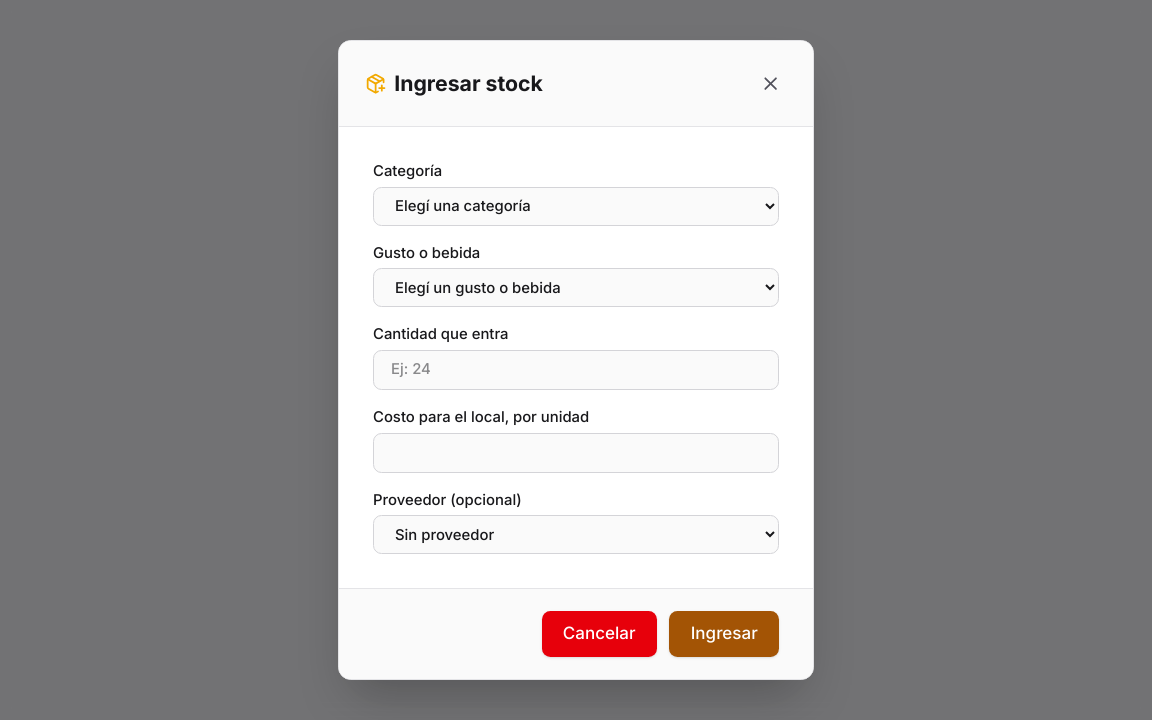
Scenario: Ingresar stock: Jamón extra para pizza (US-47 CA-2) › un precio vacío o en 0 marca el error y no se manda
This screenshot has width=1152, height=720.
Select "Jamón extra para pizza" in the dropdown labelled "Categoría" at (576, 206), box [373,187,779,226]
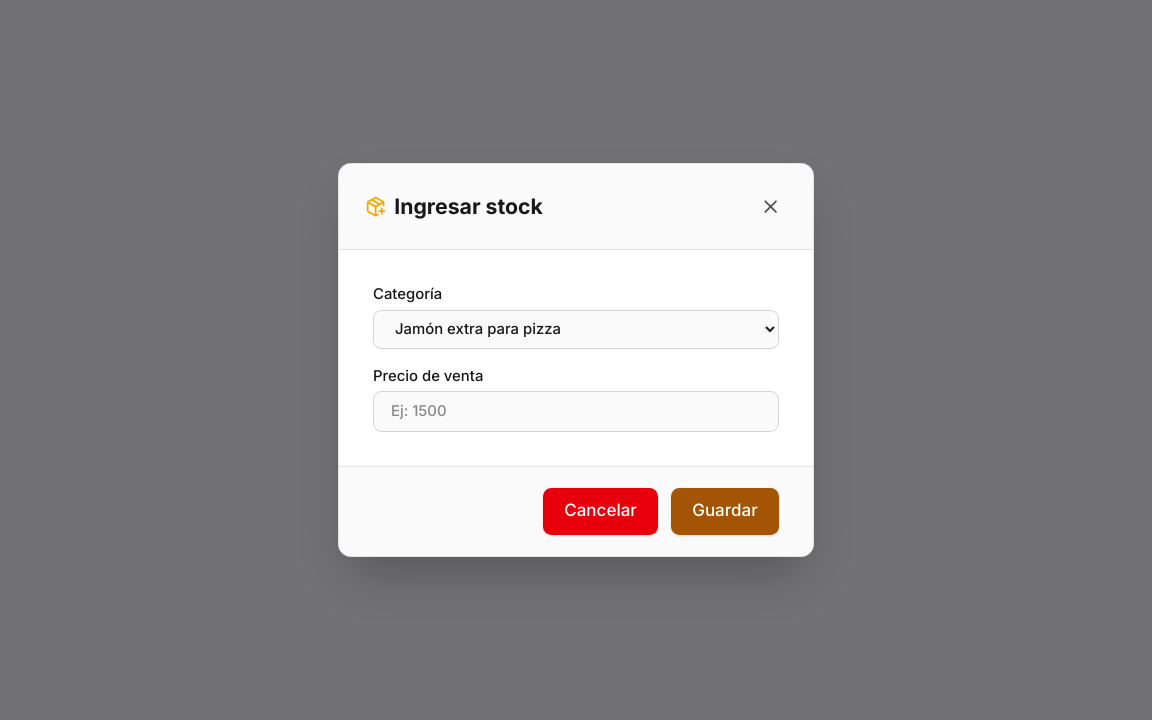
Click the button "Guardar" at (725, 511), box [671,488,779,535]
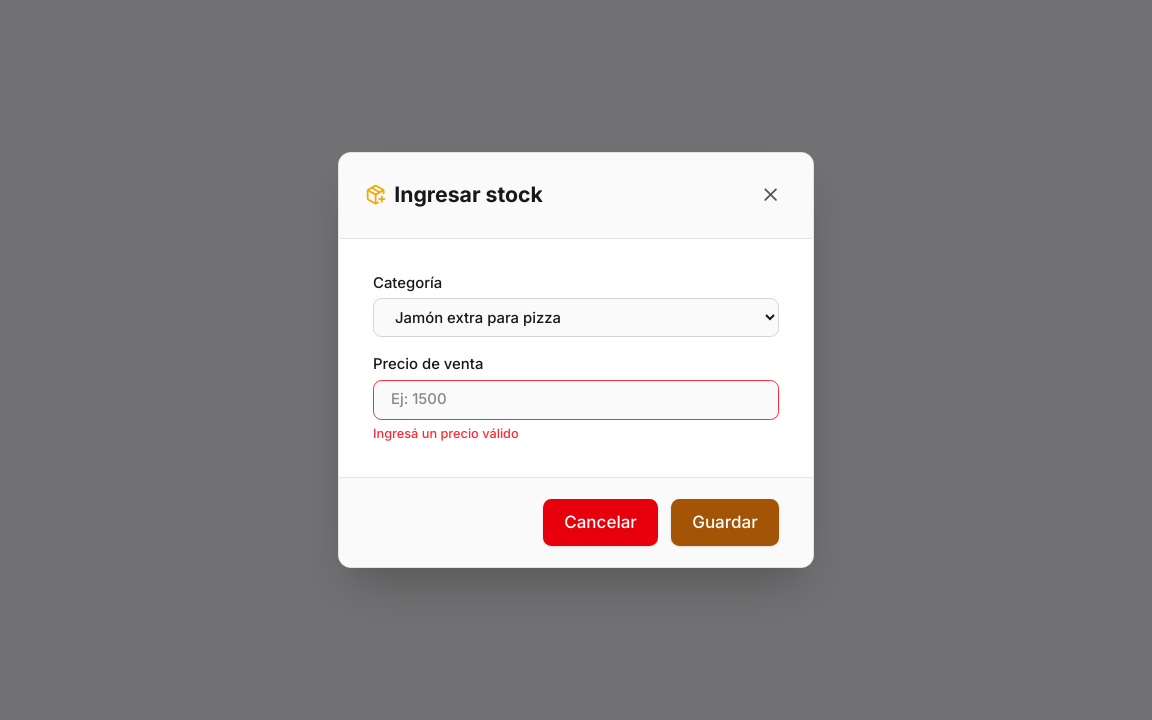
Now the text "Ingresá un precio válido" is shown, box [373,426,519,441]
